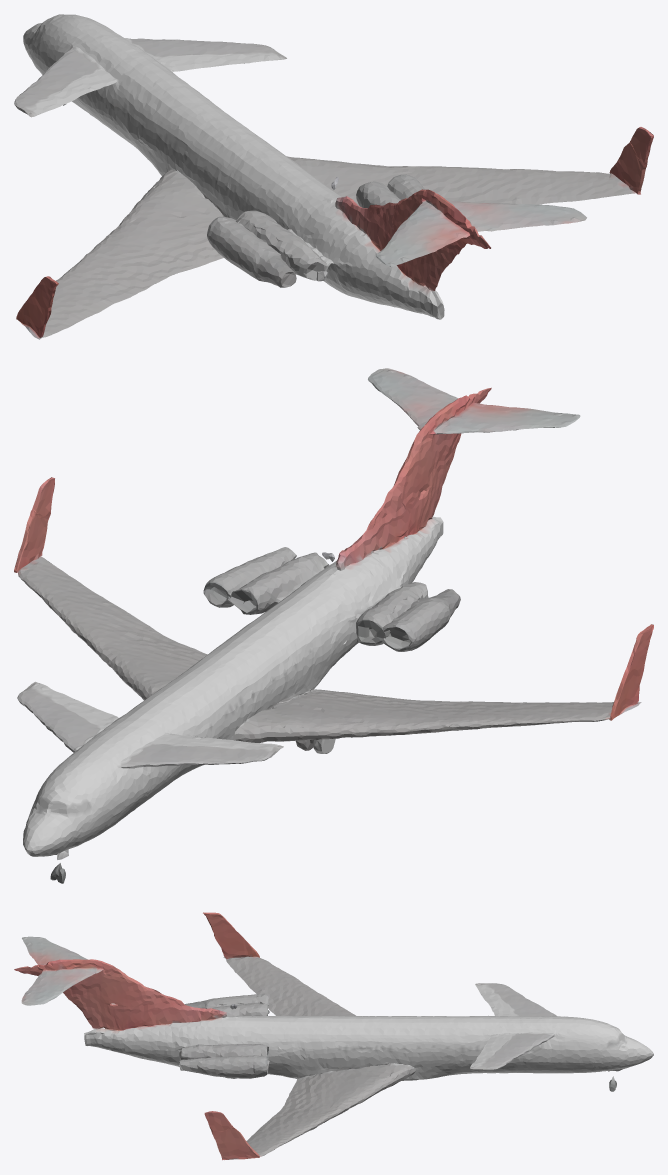
3 renders of one model, top to bottom at view 1: azimuth 30°, elevation 25°; view 2: azimuth 150°, elevation 25°; view 3: azimuth 270°, elevation 25°, orthographic. The views are drawn at different scales.
Parts seen in each view (by area): view 1: defaultobject; view 2: defaultobject; view 3: defaultobject.
Boxes of the visible parts, x1,y1,x2,y2 form: defaultobject: (14, 14, 653, 339); defaultobject: (14, 368, 653, 883); defaultobject: (14, 912, 653, 1160).
Size of the model in its own units: 0.7143 by 0.2142 by 0.9497.
